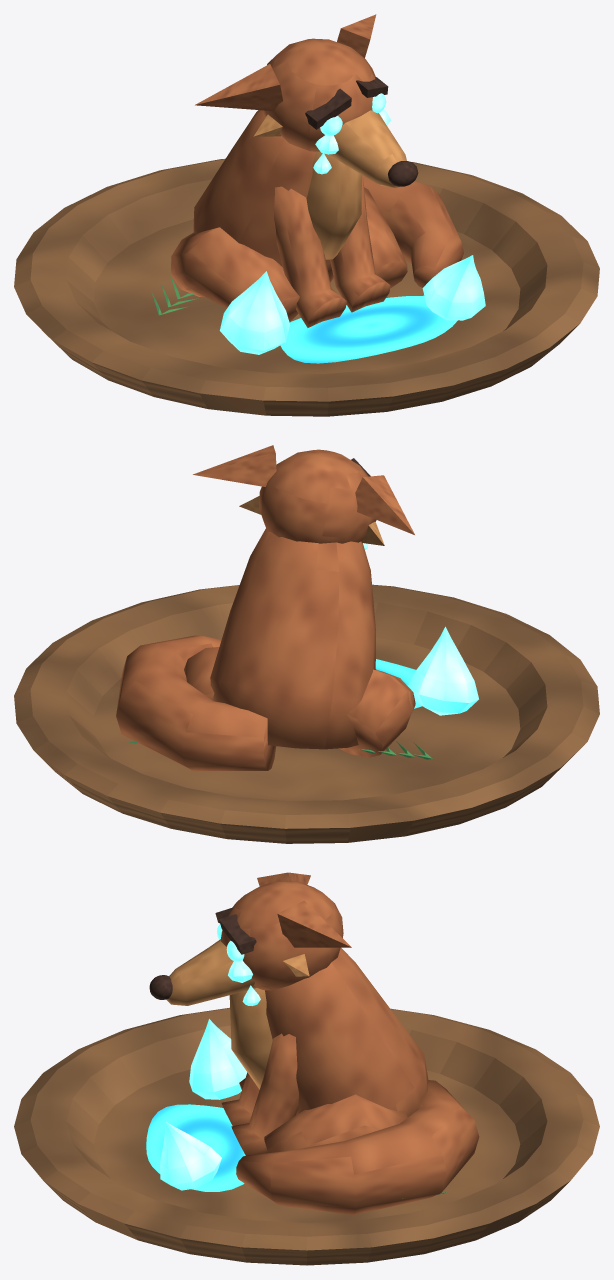
The model's file is FoodSadAufer.fbx.
The picture shows the model from 3 angles, top to bottom: view 1: azimuth 30°, elevation 25°; view 2: azimuth 150°, elevation 25°; view 3: azimuth 270°, elevation 25°; orthographic projection.
Parts seen in each view (by area): view 1: FoodSadAufer; view 2: FoodSadAufer; view 3: FoodSadAufer.
Boxes of the visible parts, x1,y1,x2,y2 form: FoodSadAufer: (14,14,599,416); FoodSadAufer: (14,445,599,843); FoodSadAufer: (14,872,599,1265).
Bounding box in the file's own units: 39 × 20.36 × 39.
Materials: 1 (1 with a texture image).
